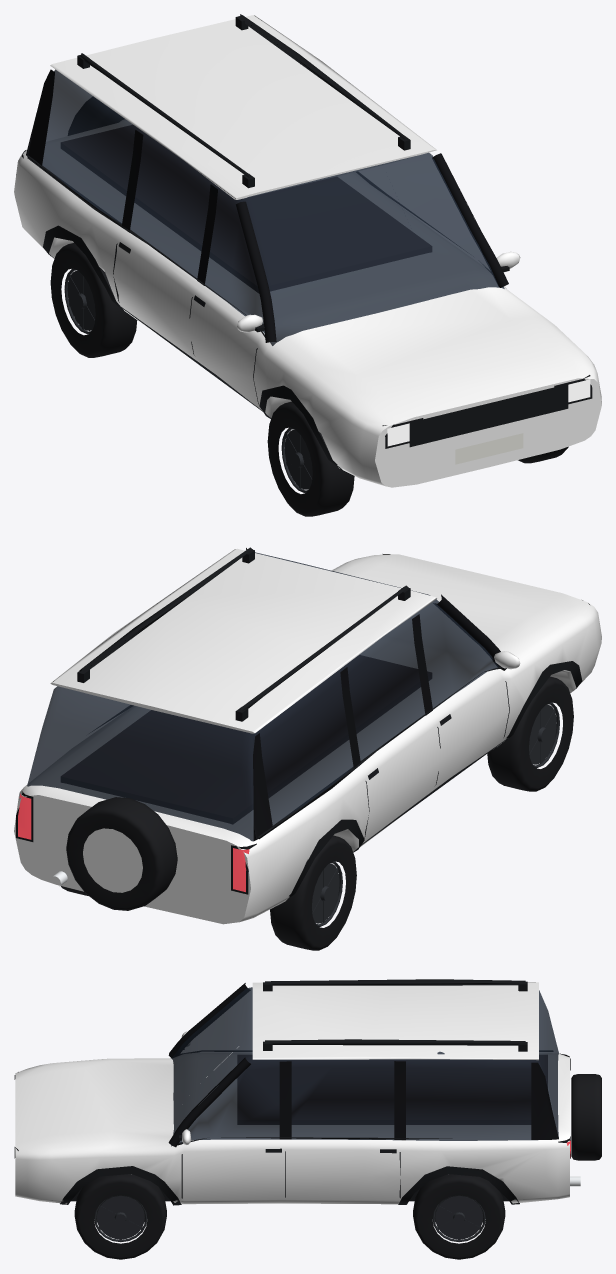
The model's file is granforge_ridgeback.lod.glb.
3 views of the same model, one above another, from view 1: azimuth 30°, elevation 25°; view 2: azimuth 150°, elevation 25°; view 3: azimuth 270°, elevation 25° (orthographic). The views are drawn at different scales.
Visible parts, largest first — view 1: body_paint, body_glass, body_trim, tire (×2), door_glass, body_pillar, rim (×2), body_tire, headlights; view 2: body_paint, body_glass, body_trim, tire (×2), body_tire, body_pillar, rim (×2), taillights; view 3: body_paint, body_glass, body_trim, tire (×2), door_paint, door_glass, body_pillar, rim (×2), body_tire, door_pillar.
Boxes of the visible parts, x1,y1,x2,y2 form: body_paint: [14, 15, 601, 487]; body_glass: [42, 64, 504, 345]; body_trim: [16, 14, 592, 472]; tire (×2): [50, 243, 354, 516]; door_glass: [384, 153, 489, 278]; body_pillar: [26, 69, 508, 342]; rim (×2): [64, 268, 312, 493]; body_tire: [68, 97, 123, 135]; headlights: [387, 379, 590, 446]; body_paint: [14, 548, 601, 924]; body_glass: [27, 552, 498, 841]; body_trim: [16, 547, 589, 906]; tire (×2): [270, 676, 573, 950]; body_tire: [66, 797, 177, 910]; body_pillar: [246, 548, 506, 841]; rim (×2): [312, 702, 559, 927]; taillights: [18, 793, 249, 892]; body_paint: [15, 982, 569, 1204]; body_glass: [171, 987, 558, 1146]; body_trim: [14, 979, 570, 1205]; tire (×2): [74, 1174, 505, 1259]; door_paint: [183, 1133, 280, 1204]; door_glass: [181, 1040, 279, 1141]; body_pillar: [168, 983, 558, 1147]; rim (×2): [94, 1195, 485, 1242]; body_tire: [571, 1074, 601, 1160]; door_pillar: [182, 1061, 282, 1139].
Size of the model in its own units: 2.16 by 1.91 by 4.98.
